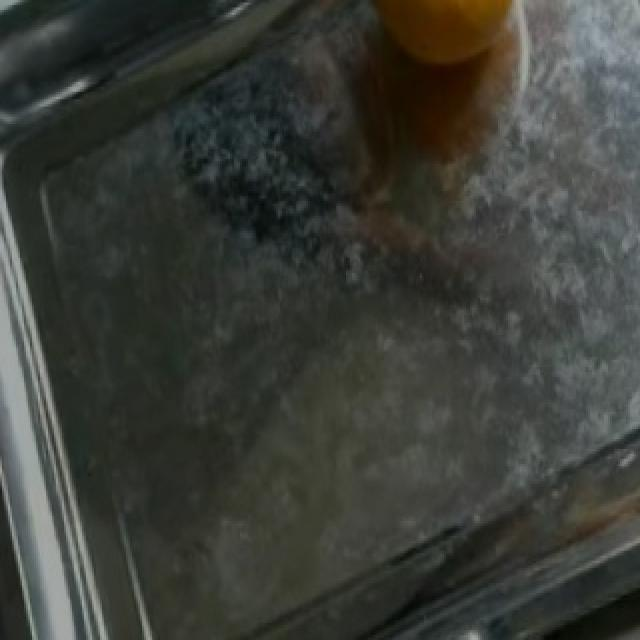Fruit: (330, 2, 546, 97)
